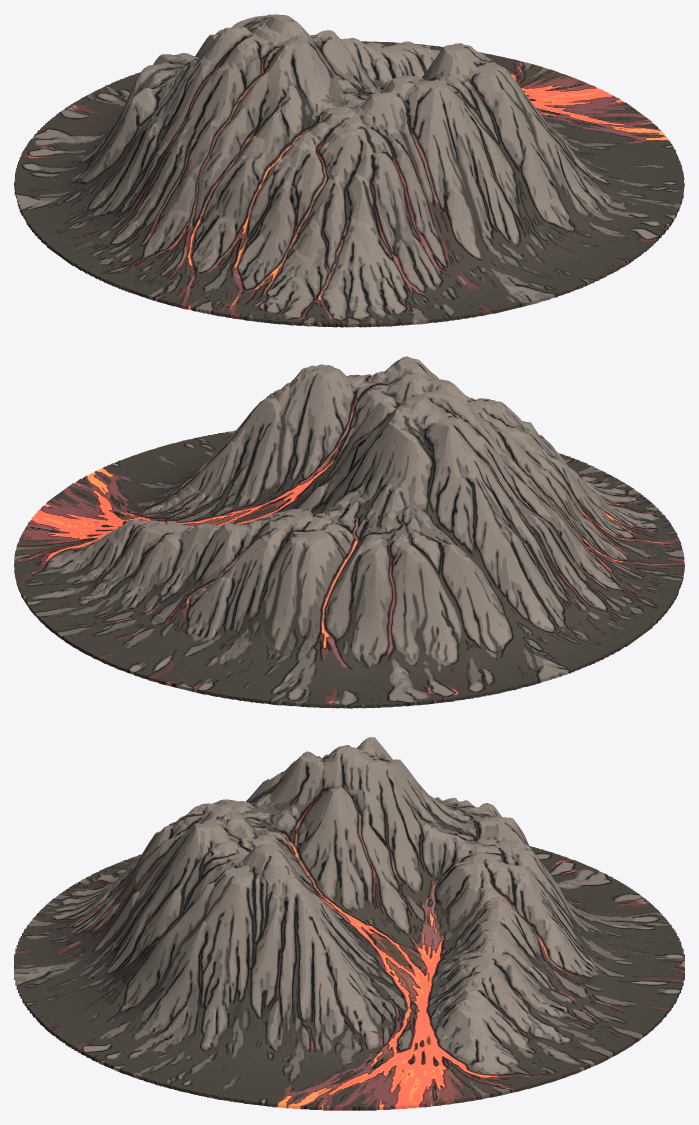
The picture shows the model from 3 angles, top to bottom: view 1: azimuth 30°, elevation 25°; view 2: azimuth 150°, elevation 25°; view 3: azimuth 270°, elevation 25°; orthographic projection.
Visible parts, largest first — view 1: TerrainMesh.001; view 2: TerrainMesh.001; view 3: TerrainMesh.001.
Part boxes in pixels (x1,y1,x2,y2): TerrainMesh.001: [14, 14, 684, 327]; TerrainMesh.001: [14, 356, 684, 708]; TerrainMesh.001: [14, 737, 684, 1110].
Bounding box in the file's own units: 984 × 301 × 984.
1 material, 1 textured.
